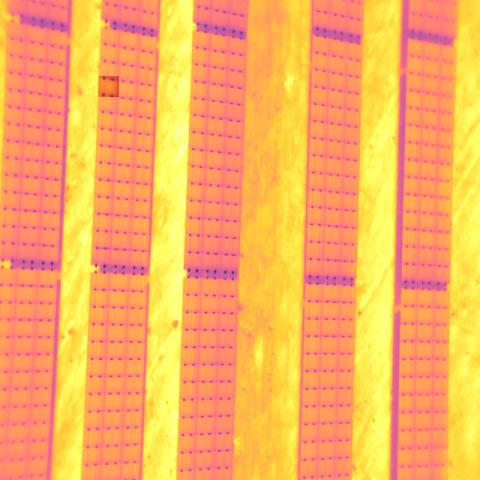fault: (98, 76, 119, 97)
